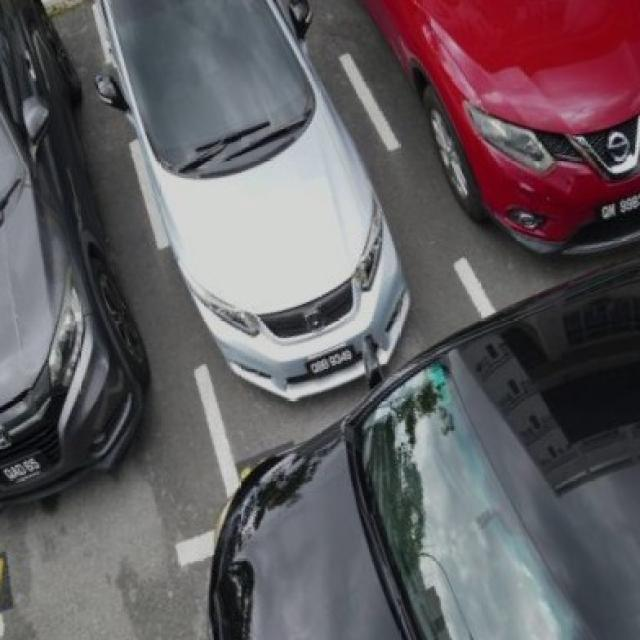Legalparking: (96, 0, 408, 398), (0, 0, 147, 500), (364, 0, 638, 243)
illegalparking: (209, 260, 638, 638)
